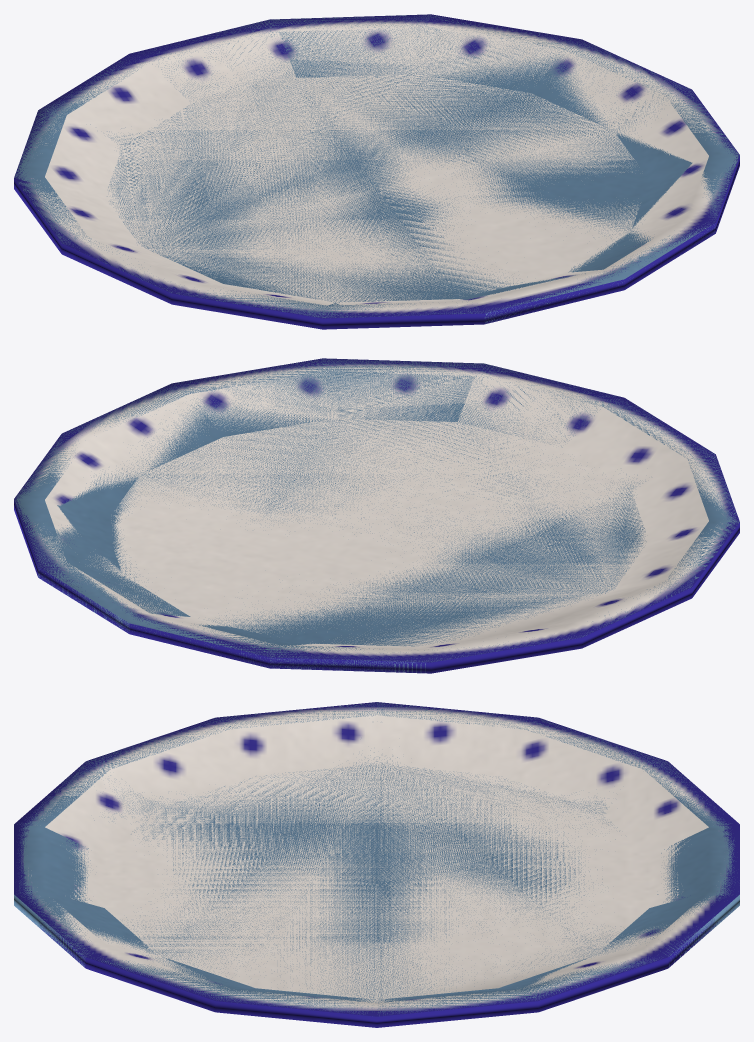
Rendered from teller.fbx.
3 renders of one model, top to bottom at view 1: azimuth 30°, elevation 25°; view 2: azimuth 150°, elevation 25°; view 3: azimuth 270°, elevation 25°, orthographic. The views are drawn at different scales.
Parts seen in each view (by area): view 1: Mesh, Mesh_ncl1_1; view 2: Mesh, Mesh_ncl1_1; view 3: Mesh, Mesh_ncl1_1.
Part boxes in pixels (x1,y1,x2,y2): Mesh: (14,14,739,329); Mesh_ncl1_1: (14,14,739,323); Mesh: (14,358,739,673); Mesh_ncl1_1: (14,358,739,673); Mesh: (14,702,739,1027); Mesh_ncl1_1: (14,702,739,1015).
Bounding box in the file's own units: 60 × 2.98 × 58.5.
